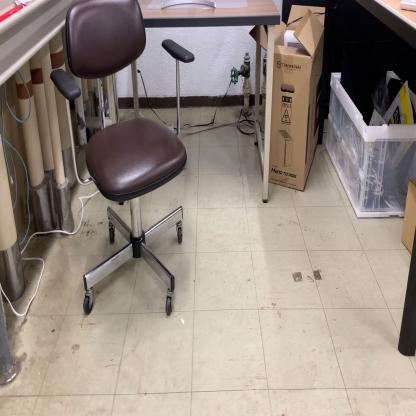chair: (48, 1, 197, 319)
